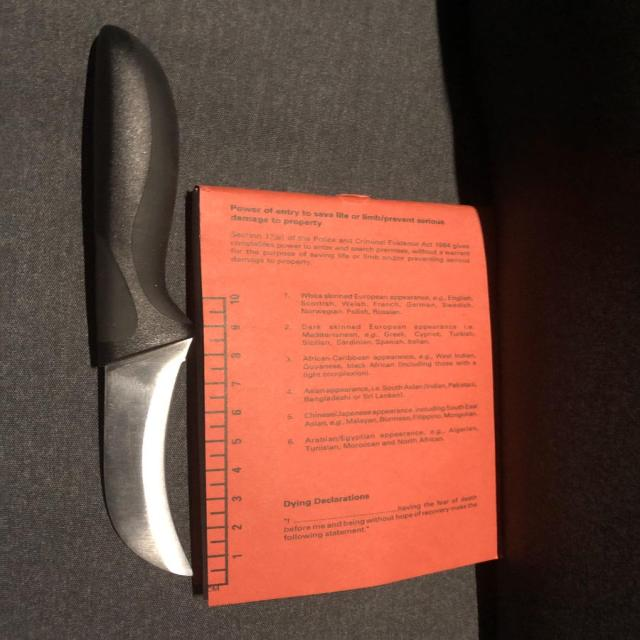Sharp-Object: (83, 23, 196, 581)
